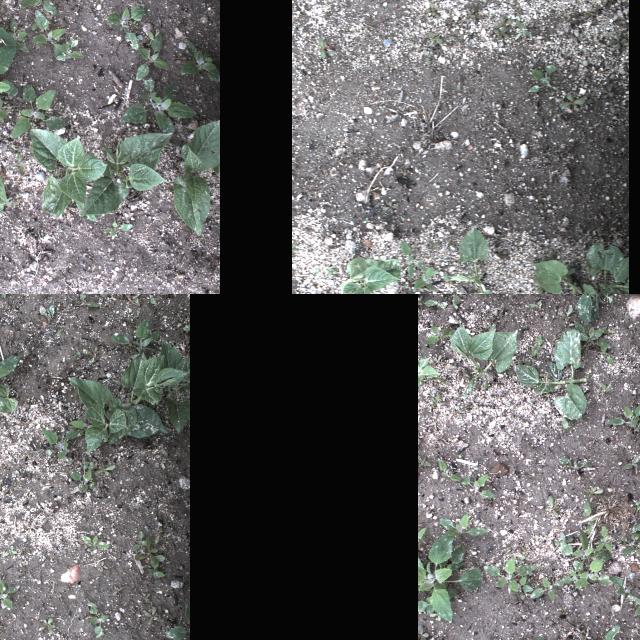crop: (79, 131, 173, 215), (68, 376, 168, 454), (109, 351, 189, 443), (29, 128, 107, 218), (512, 330, 586, 420), (171, 120, 219, 236), (448, 325, 518, 399), (446, 225, 494, 294), (158, 336, 190, 432), (531, 258, 611, 294), (338, 255, 400, 294), (585, 242, 628, 294), (417, 357, 445, 388), (0, 383, 16, 413)
weed: (418, 531, 482, 621), (118, 77, 196, 133), (9, 80, 67, 138), (558, 526, 612, 566), (482, 555, 536, 593), (104, 2, 146, 50), (110, 319, 158, 359), (31, 8, 68, 58), (134, 31, 170, 80), (179, 40, 219, 82), (560, 556, 610, 588), (0, 39, 17, 133), (607, 400, 640, 441), (0, 354, 22, 415), (571, 318, 611, 349), (438, 512, 489, 536), (571, 294, 613, 323), (417, 587, 457, 615), (458, 472, 496, 501), (42, 428, 78, 458), (528, 64, 560, 95), (572, 624, 632, 640), (401, 240, 425, 278), (165, 602, 189, 640), (134, 534, 166, 562), (69, 408, 99, 436), (424, 324, 458, 348), (86, 601, 108, 637), (528, 576, 564, 598), (412, 266, 440, 292), (70, 465, 96, 493), (8, 16, 28, 52), (56, 36, 84, 59), (14, 0, 56, 15), (75, 195, 97, 223), (0, 578, 19, 609), (438, 458, 462, 482), (606, 573, 632, 595), (619, 532, 640, 559), (102, 220, 134, 237), (509, 574, 533, 594), (559, 456, 593, 470), (582, 500, 596, 534), (7, 148, 25, 172), (592, 342, 612, 363), (559, 93, 585, 109), (596, 525, 612, 551), (38, 302, 54, 326), (544, 494, 560, 518), (526, 334, 542, 358), (82, 534, 108, 548), (316, 39, 334, 59), (555, 531, 573, 551), (626, 592, 640, 616), (515, 20, 531, 40), (133, 530, 149, 550), (74, 294, 98, 307), (82, 348, 100, 364), (623, 453, 640, 469), (94, 463, 116, 475), (582, 486, 604, 498), (150, 558, 164, 576), (40, 617, 54, 635), (452, 402, 466, 420), (146, 605, 158, 625), (596, 327, 616, 339), (417, 294, 437, 306), (424, 1, 440, 15), (560, 306, 574, 322), (418, 525, 427, 549), (632, 518, 640, 544), (443, 294, 459, 307), (428, 31, 442, 45), (146, 28, 158, 44), (31, 13, 43, 29), (430, 394, 446, 406), (598, 381, 612, 394), (417, 624, 428, 640), (497, 16, 511, 28), (111, 584, 123, 598), (2, 544, 16, 556), (417, 455, 431, 467), (154, 526, 164, 542), (526, 299, 542, 309), (96, 560, 108, 572), (124, 18, 138, 28), (494, 27, 508, 37), (428, 611, 442, 621), (0, 95, 6, 118), (42, 510, 52, 522), (134, 296, 140, 316), (432, 354, 442, 366), (574, 626, 584, 638), (580, 630, 592, 640), (455, 368, 467, 378), (150, 294, 156, 312), (83, 460, 93, 470), (433, 434, 443, 444), (521, 546, 531, 556), (54, 328, 60, 344), (72, 347, 80, 358), (428, 420, 436, 430), (463, 400, 472, 408), (634, 499, 640, 510), (144, 592, 150, 602), (624, 310, 628, 324), (502, 546, 511, 552), (183, 323, 189, 331), (594, 505, 600, 513), (518, 554, 524, 562), (538, 598, 544, 604), (456, 453, 462, 459), (142, 564, 150, 568), (19, 563, 25, 567), (86, 616, 90, 618)
